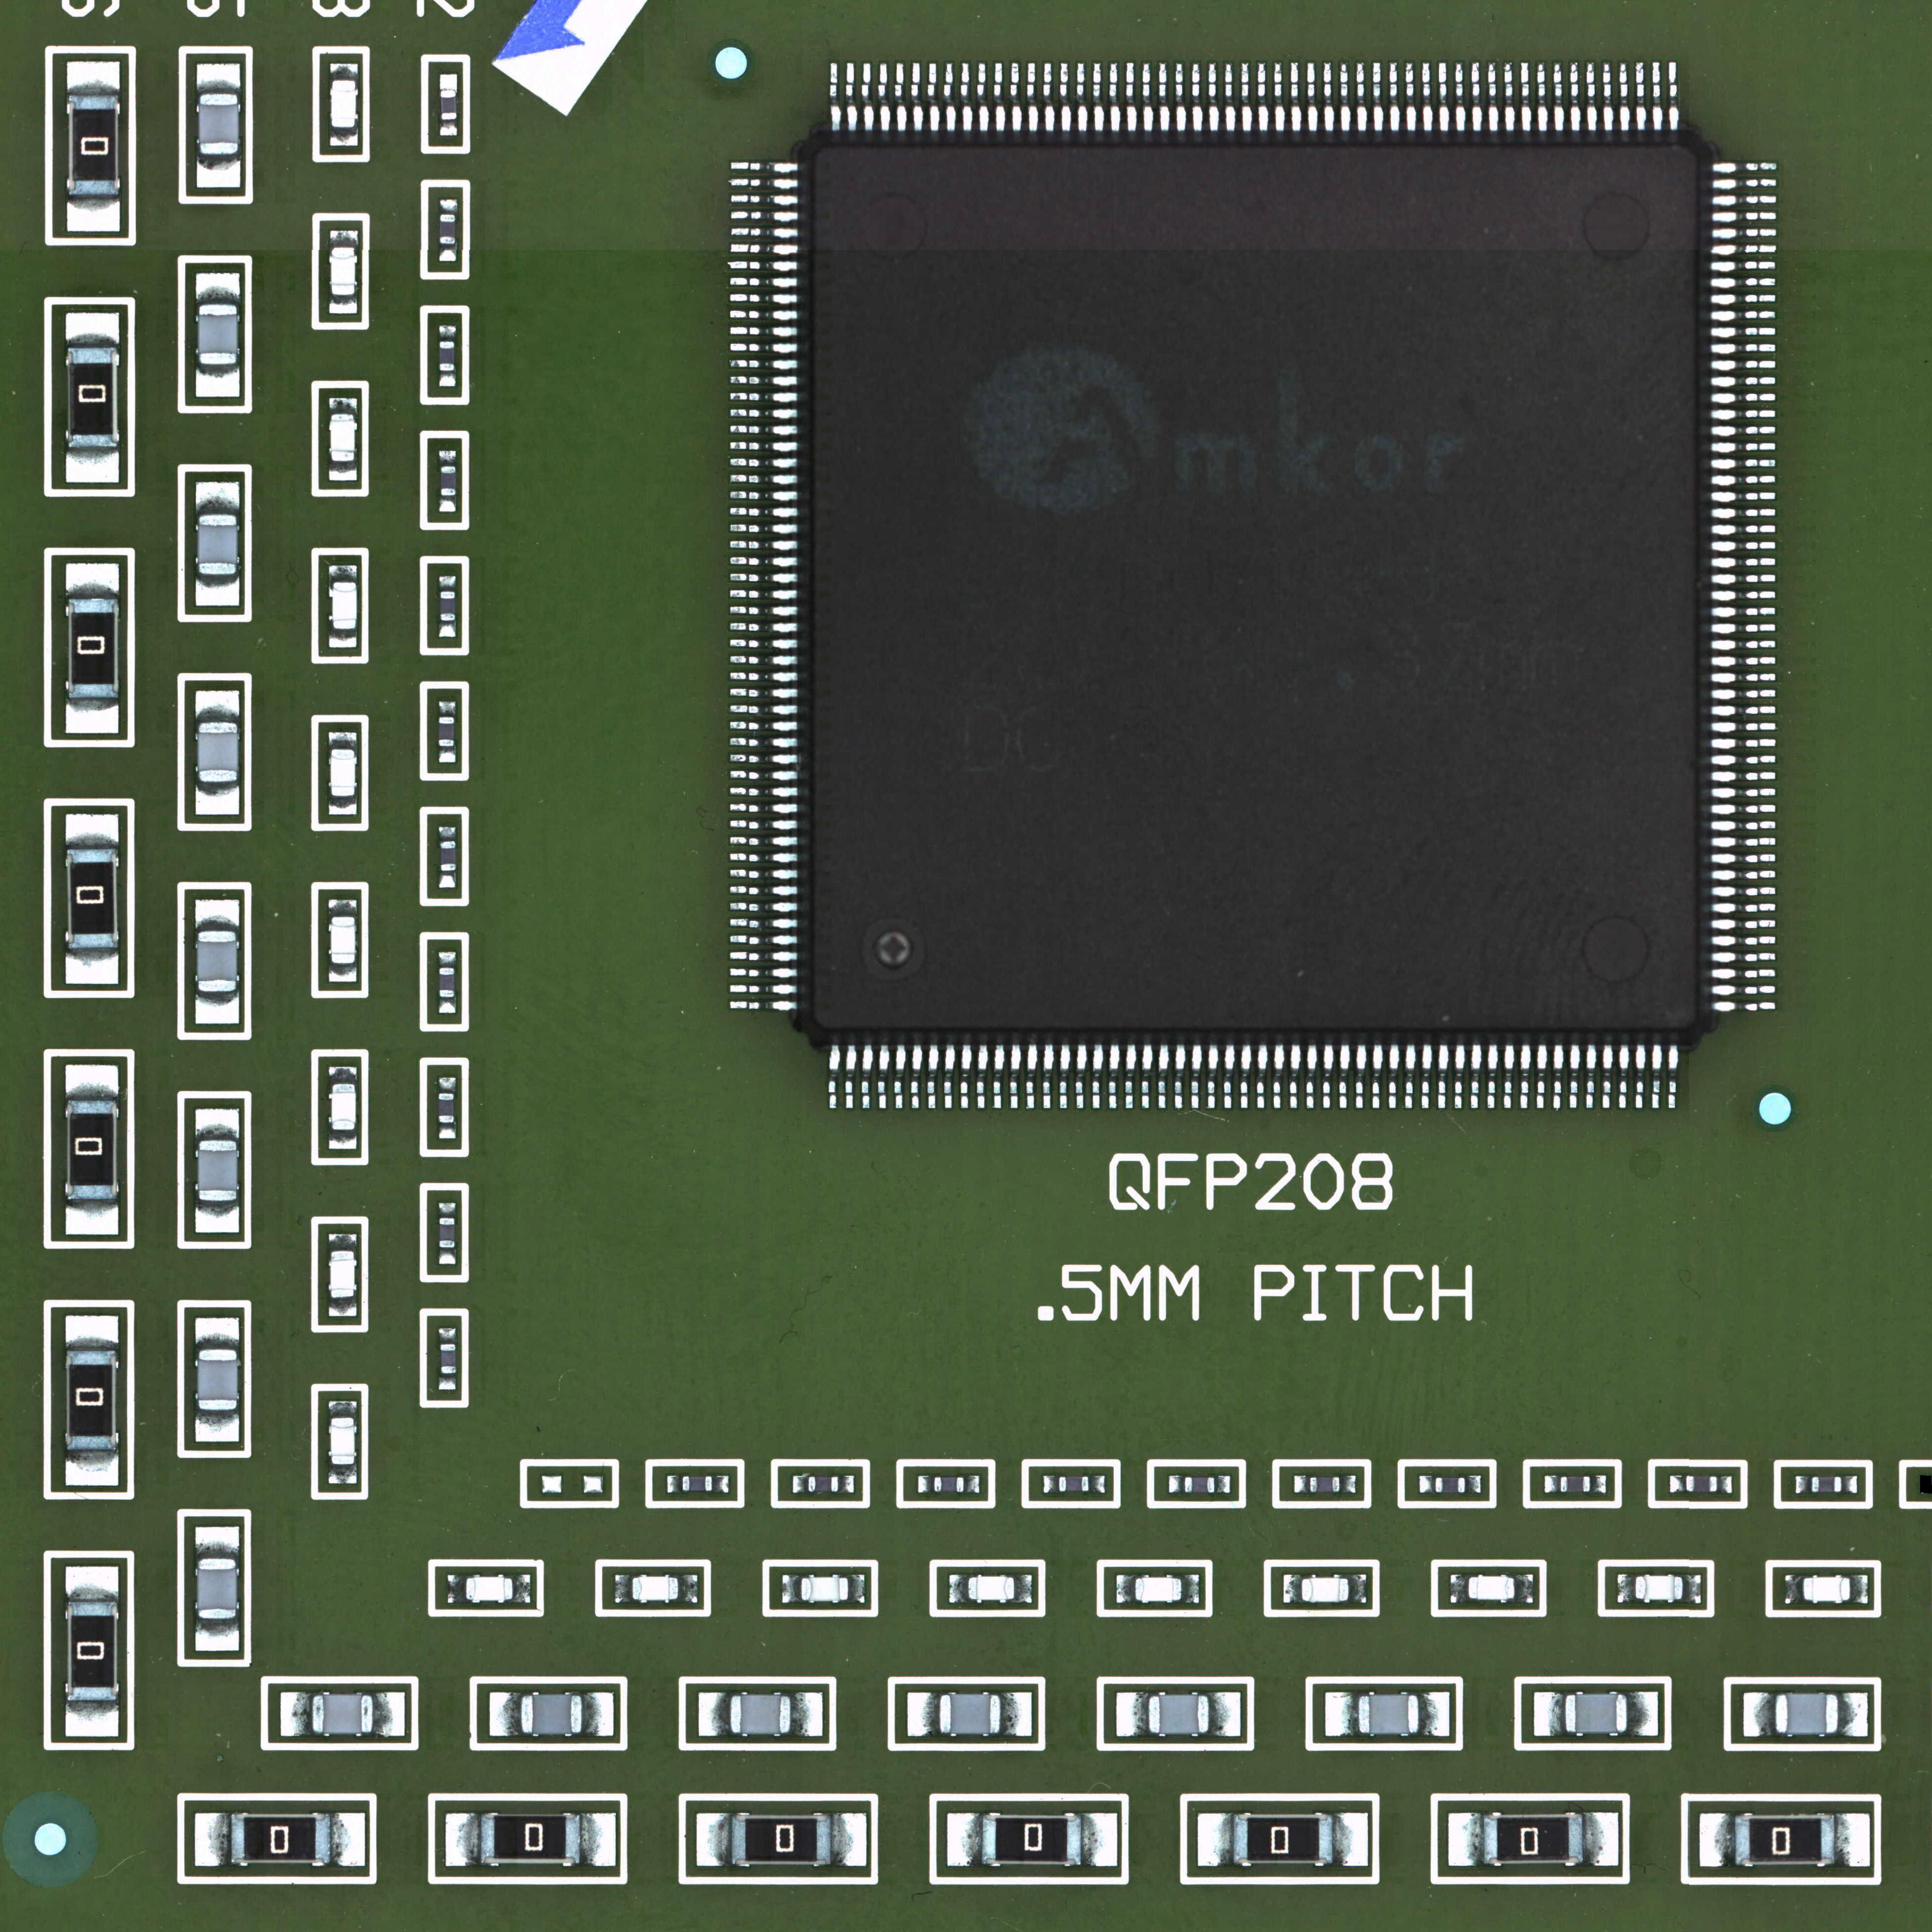Package: (814, 145, 1706, 1037), (479, 1813, 582, 1865), (67, 598, 119, 699), (65, 1352, 117, 1451), (67, 847, 117, 948), (230, 1813, 331, 1863), (1483, 1813, 1583, 1863), (980, 1815, 1081, 1865), (1233, 1813, 1334, 1863), (67, 347, 117, 446), (67, 1601, 117, 1700), (67, 1100, 117, 1200), (1734, 1817, 1836, 1865), (731, 1815, 832, 1863), (69, 96, 117, 195), (1775, 1695, 1838, 1734), (198, 931, 237, 993), (939, 1695, 1001, 1734), (1148, 1695, 1210, 1734), (520, 1695, 582, 1734), (729, 1695, 791, 1734), (1357, 1695, 1419, 1734), (1564, 1695, 1628, 1732), (198, 1141, 237, 1201), (198, 1559, 237, 1619), (198, 1350, 237, 1410), (198, 722, 237, 782), (198, 515, 237, 575), (198, 304, 237, 364), (200, 94, 237, 156), (311, 1695, 373, 1732), (800, 1576, 849, 1601), (1635, 1576, 1684, 1601), (331, 1417, 356, 1465), (331, 414, 356, 462), (331, 248, 356, 295), (333, 582, 357, 630), (331, 748, 356, 796), (331, 916, 356, 964), (333, 80, 357, 127), (1803, 1576, 1851, 1601), (465, 1576, 513, 1601), (968, 1576, 1016, 1601), (1134, 1576, 1182, 1601), (632, 1576, 679, 1601), (1300, 1578, 1350, 1601), (333, 1085, 356, 1131), (331, 1251, 354, 1297), (1468, 1576, 1514, 1599), (441, 90, 458, 120), (441, 1343, 456, 1375), (1686, 1476, 1718, 1491), (1184, 1477, 1215, 1493), (439, 1217, 455, 1247), (1309, 1477, 1339, 1493), (439, 341, 455, 372), (439, 968, 455, 998), (441, 465, 456, 495), (439, 1093, 455, 1123), (1435, 1477, 1465, 1493), (439, 717, 455, 747), (441, 842, 456, 870), (1058, 1477, 1090, 1491), (441, 214, 455, 244), (809, 1477, 839, 1491), (1560, 1477, 1591, 1491), (683, 1477, 713, 1491), (934, 1477, 964, 1491), (441, 591, 455, 621), (1812, 1477, 1842, 1491)
Solder: (1836, 1813, 1874, 1868), (67, 195, 120, 232), (65, 446, 119, 483), (65, 1315, 119, 1352), (195, 1812, 230, 1867), (65, 563, 120, 598), (1583, 1812, 1619, 1867), (65, 1451, 119, 1486), (65, 948, 119, 984), (65, 1200, 119, 1235), (1698, 1813, 1734, 1867), (65, 1702, 119, 1737), (1447, 1813, 1483, 1867), (1083, 1813, 1118, 1867), (1334, 1813, 1369, 1867), (67, 60, 120, 96), (65, 1566, 119, 1601), (833, 1812, 867, 1867), (65, 313, 120, 347), (697, 1813, 731, 1867), (65, 699, 119, 732), (446, 1813, 479, 1867), (65, 1065, 119, 1099), (1198, 1813, 1231, 1867), (333, 1813, 366, 1867), (65, 814, 119, 847), (582, 1813, 616, 1867), (948, 1813, 980, 1867), (195, 364, 241, 398), (195, 481, 241, 515), (196, 782, 239, 816), (195, 993, 239, 1024), (195, 1201, 239, 1233), (195, 1410, 239, 1442), (196, 156, 241, 188), (195, 1619, 239, 1651), (908, 1691, 939, 1736), (196, 272, 241, 304), (195, 899, 239, 931), (195, 1527, 239, 1559), (1628, 1691, 1660, 1736), (373, 1691, 405, 1736), (195, 1318, 239, 1350), (1325, 1693, 1357, 1737), (791, 1691, 823, 1736), (1116, 1691, 1146, 1737), (1210, 1691, 1240, 1737), (281, 1691, 311, 1737), (1743, 1693, 1775, 1736), (196, 690, 239, 722), (195, 575, 239, 605), (195, 1109, 239, 1139), (1534, 1691, 1564, 1736), (1001, 1691, 1031, 1736), (196, 64, 241, 94), (1840, 1691, 1868, 1737), (1421, 1691, 1449, 1737), (699, 1693, 729, 1736), (584, 1693, 614, 1736), (490, 1693, 520, 1736), (729, 324, 800, 340), (860, 62, 876, 131), (1711, 242, 1776, 258), (1468, 60, 1483, 133), (1568, 60, 1582, 133), (1601, 60, 1615, 133), (729, 308, 800, 322), (1371, 62, 1385, 133), (729, 242, 800, 257), (993, 62, 1007, 133), (943, 62, 957, 133), (959, 62, 973, 133), (1058, 62, 1072, 133), (1042, 62, 1056, 133), (1552, 62, 1566, 131), (729, 292, 798, 306), (878, 62, 892, 131), (977, 64, 991, 133), (729, 621, 798, 635), (729, 786, 798, 800), (1711, 211, 1778, 225), (1709, 310, 1776, 324), (1711, 195, 1778, 209), (1709, 326, 1776, 340), (1711, 226, 1778, 241), (1711, 490, 1776, 504), (1711, 391, 1776, 405), (1711, 704, 1776, 718), (1711, 506, 1776, 520), (725, 260, 798, 272), (1437, 60, 1449, 133), (1290, 62, 1302, 133), (1389, 62, 1401, 133), (1026, 62, 1039, 133), (1486, 60, 1499, 131), (1355, 62, 1368, 133), (1518, 60, 1530, 131), (1207, 62, 1219, 133), (1274, 62, 1286, 133), (1536, 62, 1548, 133), (895, 62, 908, 133), (1076, 62, 1088, 133), (1125, 62, 1138, 133), (1323, 62, 1336, 133), (1306, 62, 1318, 133), (1339, 62, 1352, 133), (1502, 60, 1514, 131), (729, 605, 800, 617), (729, 637, 800, 649), (729, 506, 798, 518), (731, 226, 800, 239), (729, 869, 798, 881), (828, 62, 840, 131), (1191, 64, 1203, 133), (1651, 62, 1663, 131), (729, 770, 798, 782), (729, 490, 798, 502), (1010, 62, 1023, 131), (729, 589, 798, 602), (729, 671, 798, 683), (729, 391, 798, 403), (1108, 64, 1120, 133), (1635, 62, 1647, 131), (729, 359, 798, 372), (729, 456, 798, 469), (729, 276, 798, 288), (729, 441, 798, 453), (729, 754, 798, 766), (729, 474, 798, 487), (729, 341, 798, 354), (729, 655, 798, 667), (729, 556, 798, 568), (729, 375, 798, 387), (729, 736, 798, 748), (729, 835, 798, 847), (1619, 64, 1631, 133), (1421, 62, 1433, 131), (1157, 62, 1169, 131), (1141, 62, 1154, 131), (1175, 64, 1187, 133), (1256, 62, 1269, 131), (1240, 62, 1253, 131), (1224, 62, 1237, 131), (1405, 62, 1417, 131), (1585, 62, 1598, 131), (729, 425, 798, 437), (729, 522, 798, 534), (729, 540, 798, 552), (729, 720, 798, 732), (729, 803, 798, 816), (729, 819, 798, 832), (729, 885, 798, 897), (729, 901, 798, 913), (729, 918, 798, 931), (729, 1000, 798, 1012), (729, 950, 796, 962), (1709, 853, 1776, 865), (1709, 754, 1776, 766), (927, 64, 939, 131), (731, 211, 798, 223), (1711, 163, 1778, 175), (1709, 294, 1776, 306), (1709, 474, 1776, 487), (1709, 837, 1776, 849), (729, 934, 796, 947), (1709, 557, 1776, 570), (1711, 179, 1778, 191), (1709, 738, 1776, 750), (1709, 375, 1776, 387), (1709, 902, 1776, 915), (1709, 918, 1776, 931), (1709, 623, 1776, 635), (731, 195, 798, 207), (1709, 803, 1776, 816), (1709, 639, 1776, 651), (1709, 260, 1776, 272), (731, 161, 798, 173), (1709, 343, 1776, 356), (1709, 278, 1776, 290), (1709, 359, 1776, 372), (1709, 869, 1776, 881), (1709, 524, 1776, 536), (1709, 458, 1776, 471), (1711, 425, 1778, 437), (729, 984, 796, 996), (1711, 952, 1776, 964), (1711, 672, 1776, 685), (1711, 573, 1776, 586), (927, 1044, 939, 1109), (1108, 1044, 1120, 1109), (1207, 1044, 1219, 1109), (1389, 1044, 1401, 1109), (1711, 656, 1776, 669), (1371, 1044, 1384, 1109), (1711, 771, 1776, 784), (1651, 1044, 1663, 1109), (1272, 1044, 1284, 1109), (1711, 409, 1776, 421), (1711, 589, 1776, 602), (878, 1044, 890, 1109), (1223, 1044, 1235, 1109), (1322, 1044, 1334, 1109), (1421, 1044, 1433, 1109), (1711, 968, 1776, 980), (1711, 885, 1776, 897), (1711, 787, 1776, 800), (1711, 688, 1776, 701), (1711, 605, 1776, 617), (1711, 540, 1776, 552), (844, 1046, 856, 1109), (828, 1046, 840, 1109), (862, 1046, 874, 1109), (1042, 1046, 1054, 1109), (1502, 1046, 1514, 1109), (1454, 60, 1465, 133), (729, 688, 798, 699), (729, 968, 798, 978), (846, 62, 856, 131), (729, 409, 798, 419), (729, 853, 798, 863), (1668, 62, 1679, 131), (729, 179, 798, 189), (729, 573, 798, 584), (911, 64, 922, 133), (1709, 722, 1778, 732), (1093, 62, 1104, 131), (729, 704, 798, 715), (1709, 936, 1776, 947), (1553, 1044, 1564, 1111), (1709, 442, 1776, 453), (1709, 821, 1776, 832), (1711, 1001, 1778, 1012), (1026, 1044, 1037, 1109), (1290, 1044, 1300, 1109), (1569, 1044, 1580, 1109), (1191, 1044, 1201, 1109), (1470, 1044, 1481, 1109), (1010, 1044, 1021, 1109), (1256, 1044, 1267, 1109), (1635, 1044, 1645, 1109), (1488, 1044, 1499, 1109), (977, 1044, 987, 1109), (1092, 1044, 1102, 1109), (1711, 985, 1776, 996), (1355, 1044, 1366, 1109), (1306, 1044, 1316, 1109), (1536, 1044, 1546, 1109), (911, 1044, 922, 1109), (1076, 1044, 1086, 1109), (895, 1044, 906, 1109), (1438, 1044, 1449, 1109), (1125, 1044, 1136, 1109), (1454, 1044, 1465, 1109), (1175, 1044, 1185, 1109), (1159, 1044, 1169, 1109), (945, 1044, 955, 1109), (961, 1044, 971, 1109), (1141, 1044, 1152, 1109), (1240, 1044, 1251, 1109), (1585, 1044, 1596, 1109), (1603, 1044, 1614, 1109), (1339, 1046, 1350, 1109), (1619, 1046, 1629, 1109), (1520, 1046, 1530, 1109), (1060, 1046, 1070, 1109), (1405, 1044, 1415, 1108), (1668, 1046, 1679, 1109), (994, 1044, 1003, 1109), (329, 462, 357, 481), (329, 1131, 357, 1150), (329, 1297, 357, 1316), (329, 127, 357, 147), (329, 796, 357, 816), (1514, 1575, 1534, 1603), (329, 230, 359, 248), (1016, 1575, 1033, 1605), (1684, 1575, 1702, 1605), (1785, 1575, 1803, 1605), (1851, 1575, 1868, 1605), (679, 1575, 697, 1605), (329, 1465, 356, 1484), (329, 295, 357, 313), (329, 630, 357, 648), (329, 564, 357, 582), (329, 964, 357, 982), (329, 899, 357, 916), (1116, 1575, 1134, 1603), (1283, 1575, 1300, 1603), (782, 1575, 800, 1603), (1182, 1575, 1200, 1603), (1350, 1575, 1368, 1603), (1451, 1575, 1468, 1603), (1617, 1575, 1635, 1603), (448, 1575, 465, 1603), (950, 1575, 966, 1605), (329, 1233, 356, 1251), (329, 398, 357, 414), (329, 1401, 357, 1417), (849, 1575, 865, 1603), (515, 1575, 531, 1603), (616, 1575, 632, 1603), (331, 64, 357, 80), (329, 1067, 356, 1083), (329, 732, 356, 748), (439, 244, 456, 262), (439, 870, 456, 888), (1794, 1476, 1812, 1493), (439, 74, 458, 90), (439, 120, 458, 136), (439, 621, 456, 637), (439, 998, 456, 1014), (439, 324, 456, 340), (439, 1375, 456, 1391), (439, 952, 456, 968), (439, 1077, 456, 1093), (439, 1249, 456, 1265), (439, 372, 456, 387), (439, 1123, 456, 1139), (439, 747, 456, 763), (439, 701, 456, 717), (439, 495, 456, 511), (439, 1201, 456, 1217), (1842, 1476, 1858, 1493), (1670, 1476, 1686, 1493), (1591, 1476, 1606, 1493), (1545, 1476, 1560, 1493), (1419, 1476, 1435, 1493), (1339, 1476, 1355, 1493), (1293, 1476, 1309, 1493), (1215, 1476, 1231, 1493), (1168, 1476, 1184, 1493), (1090, 1476, 1106, 1493), (1042, 1476, 1058, 1493), (964, 1476, 980, 1493), (918, 1476, 934, 1493), (839, 1476, 855, 1493), (793, 1476, 809, 1493), (713, 1476, 729, 1493), (439, 451, 456, 465), (439, 1329, 456, 1343), (441, 200, 458, 214), (439, 577, 456, 591), (439, 826, 456, 840), (1467, 1476, 1481, 1493), (667, 1476, 681, 1493), (1718, 1477, 1732, 1493)
